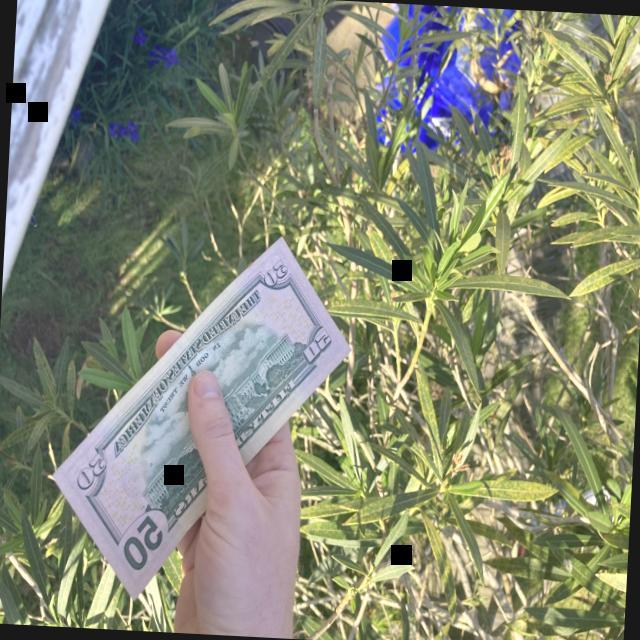fifty: (50, 236, 351, 597)
